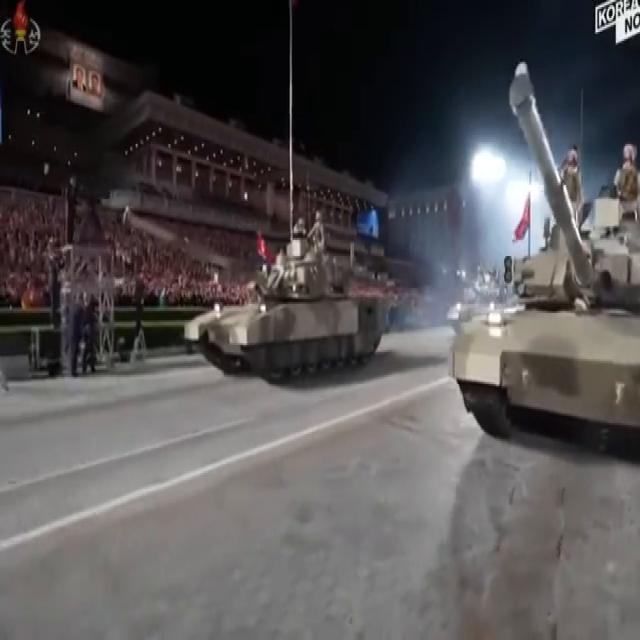north tank: (423, 74, 640, 490), (166, 198, 390, 390)
